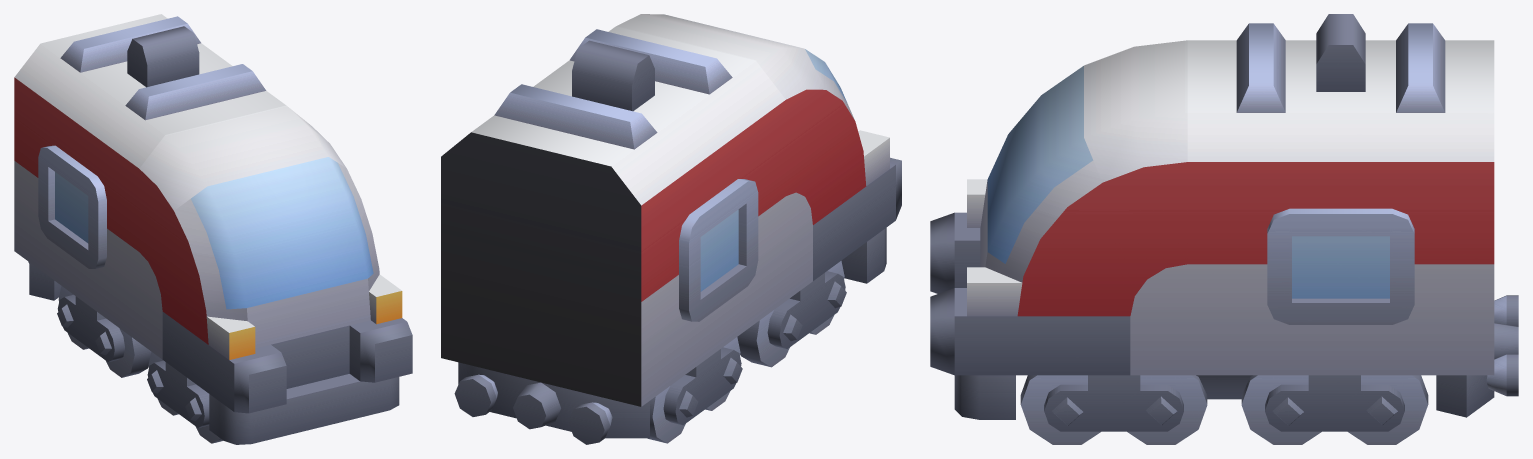
Rendered from pendeltag.glb.
3 views of the same model, side by side, from view 1: azimuth 30°, elevation 25°; view 2: azimuth 150°, elevation 25°; view 3: azimuth 270°, elevation 25° (orthographic). The views are drawn at different scales.
Parts seen in each view (by area): view 1: train-electric-city-a, wheels-back, wheels-front; view 2: train-electric-city-a, wheels-front, wheels-back; view 3: train-electric-city-a, wheels-front, wheels-back.
Boxes of the visible parts, x1,y1,x2,y2 form: train-electric-city-a: (14,14,412,444); wheels-back: (57,286,150,377); wheels-front: (147,352,223,443); train-electric-city-a: (441,14,901,444); wheels-front: (737,261,846,367); wheels-back: (647,337,742,443); train-electric-city-a: (930,14,1518,419); wheels-front: (1020,375,1207,444); wheels-back: (1241,375,1428,444).
Size of the model in its own units: 1.1 by 1.68 by 2.4.
Materials: 1 (1 with a texture image).
